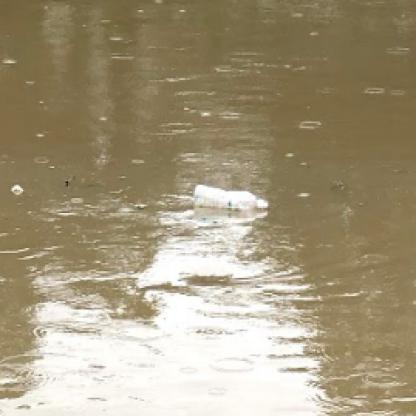plastic bottle: (195, 184, 267, 211)
